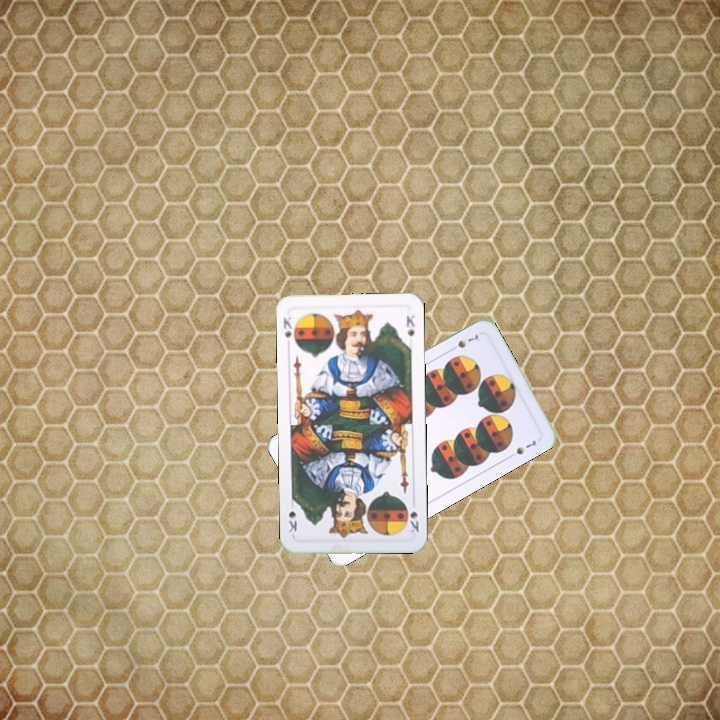S7: (445, 330, 481, 354)
SK: (406, 496, 421, 535), (279, 313, 295, 340)
